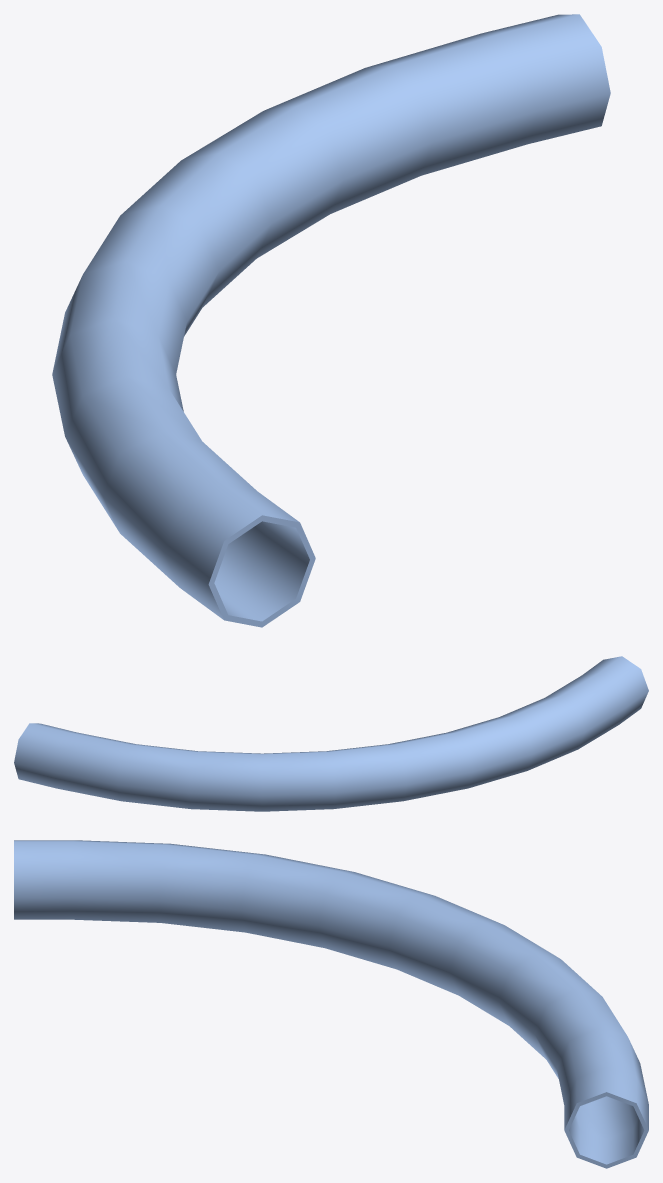
Rendered from PipeSmall_Hollow_Bent_05.fbx.
3 views of the same model, one above another, from view 1: azimuth 30°, elevation 25°; view 2: azimuth 150°, elevation 25°; view 3: azimuth 270°, elevation 25° (orthographic). The views are drawn at different scales.
Visible parts, largest first — view 1: PipeSmall_Hollow_Bent_05.001; view 2: PipeSmall_Hollow_Bent_05.001; view 3: PipeSmall_Hollow_Bent_05.001.
Part boxes in pixels (box(x1,y1,x2,y2)): PipeSmall_Hollow_Bent_05.001: box(52, 14, 610, 627); PipeSmall_Hollow_Bent_05.001: box(14, 656, 648, 811); PipeSmall_Hollow_Bent_05.001: box(14, 840, 648, 1168).
Size of the model in its own units: 0.75 by 0.1 by 0.75.
